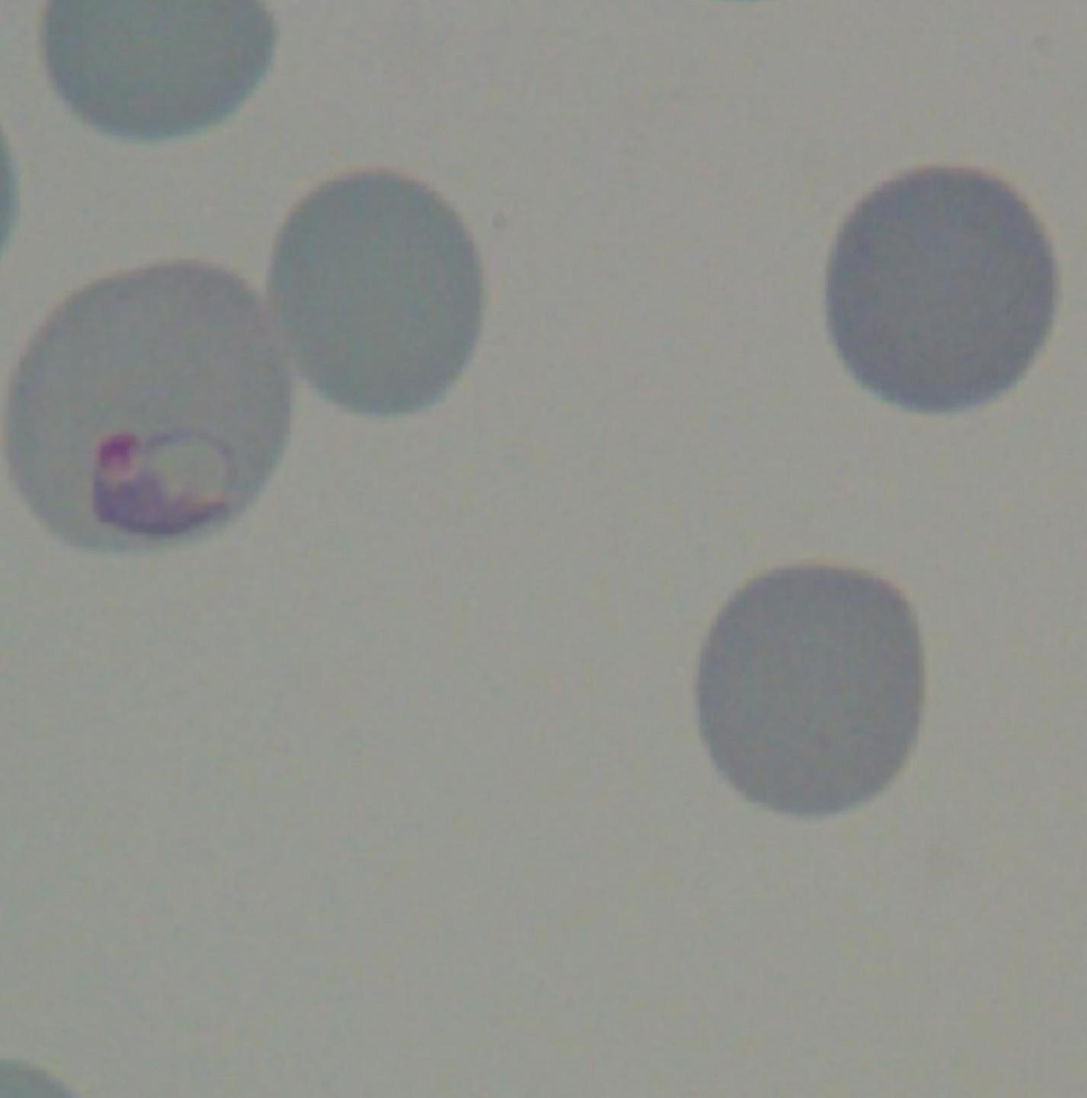Infected: (779, 538, 1087, 839)
Uninfected: (162, 279, 389, 535), (30, 680, 264, 927), (602, 682, 806, 925)
